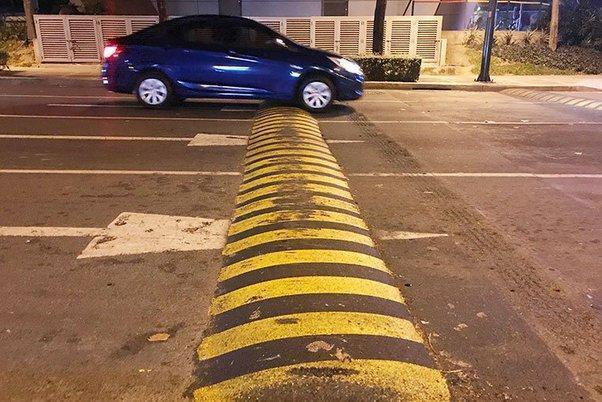speedbreaker: (222, 104, 441, 402)
